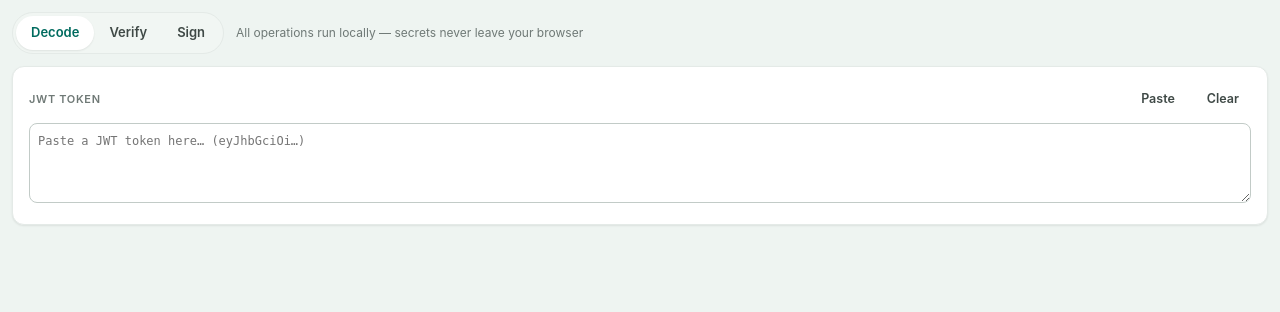
it: JWT page › Decode mode › shows error badge for invalid token
Type "not.a.valid.jwt.with.too.many.parts" into the text box with test id "jwt-input" at [640, 163], box [29,123,1251,203]
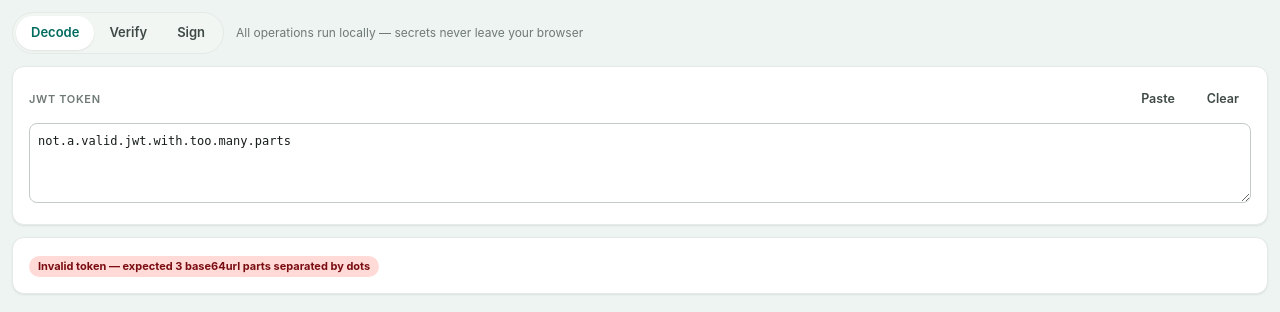
expect the text "Invalid token — expected 3 base64url parts separated by dots" is shown: met, box [29,256,379,277]
